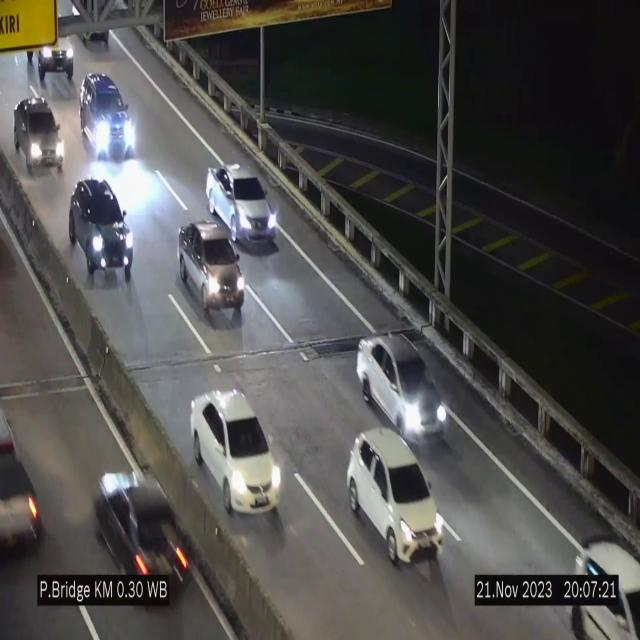Car: (345, 427, 446, 572), (189, 385, 283, 520), (354, 330, 447, 439), (67, 174, 136, 286), (176, 218, 247, 316), (204, 162, 278, 248), (79, 74, 137, 158), (12, 95, 66, 176)
